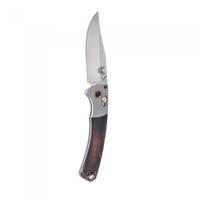knife: (77, 4, 111, 182)
